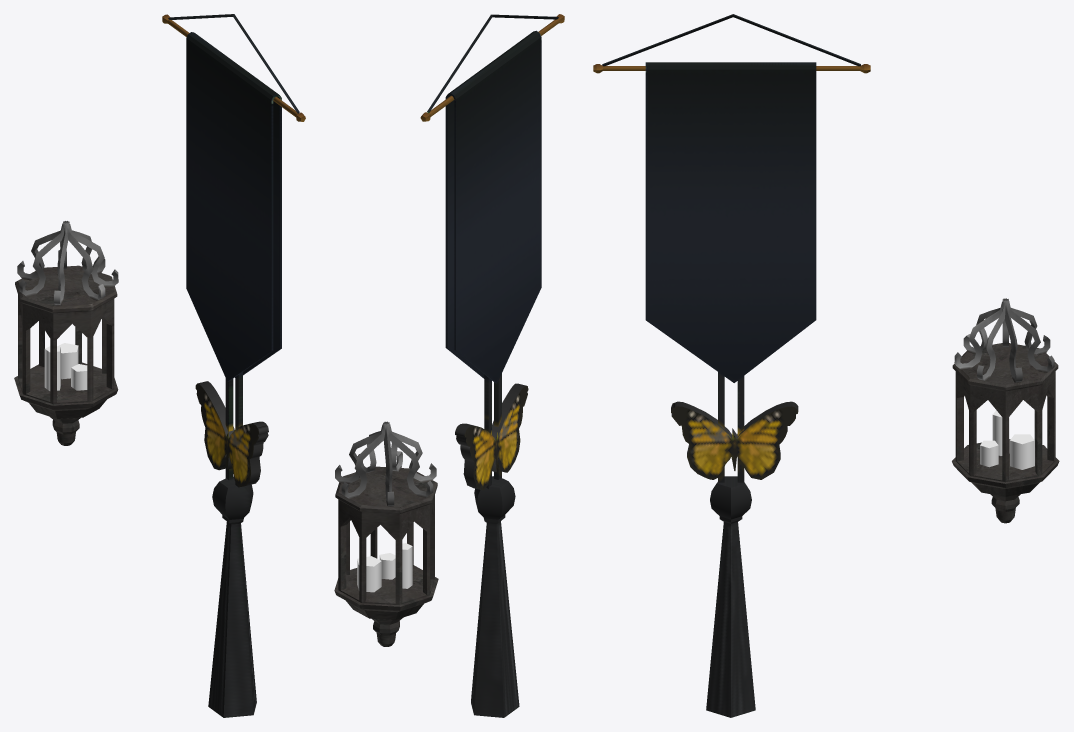
The model's file is 사계 시그니처 에셋.fbx.
3 views of the same model, side by side, from view 1: azimuth 30°, elevation 25°; view 2: azimuth 150°, elevation 25°; view 3: azimuth 270°, elevation 25° (orthographic).
Visible parts, largest first — view 1: Box001, Cylinder001, Cylinder003, Cylinder002; view 2: Box001, Cylinder001, Cylinder003, Cylinder002, Cylinder004; view 3: Box001, Cylinder001, Cylinder003.
Part boxes in pixels (x1,y1,x2,y2): Box001: (162,14,305,717); Cylinder001: (14,221,118,445); Cylinder003: (57,343,78,379); Cylinder002: (44,346,60,390); Box001: (420,14,564,717); Cylinder001: (334,421,438,646); Cylinder003: (357,556,381,592); Cylinder002: (402,543,412,588); Cylinder004: (379,553,395,579); Box001: (593,14,870,717); Cylinder001: (952,298,1059,523); Cylinder003: (1010,434,1034,469).
Size of the model in its own units: 15.53 by 103 by 62.73.
